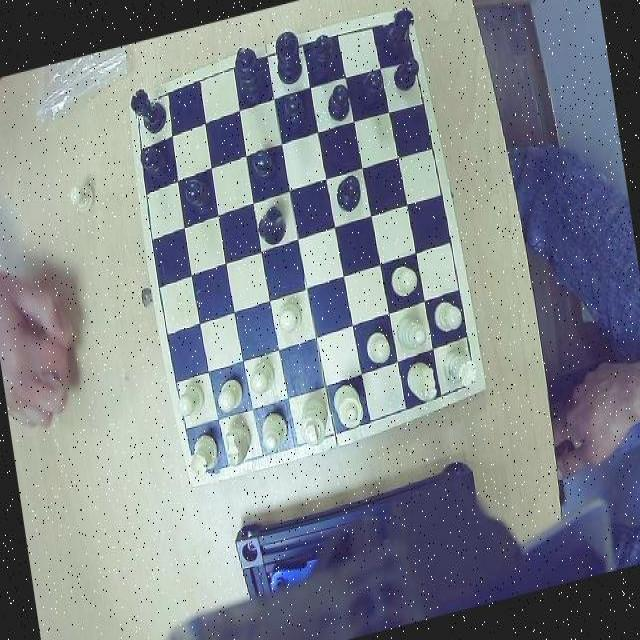chess-table-corners: (188, 450, 222, 488), (450, 361, 484, 396), (382, 8, 414, 44), (128, 88, 156, 120)
